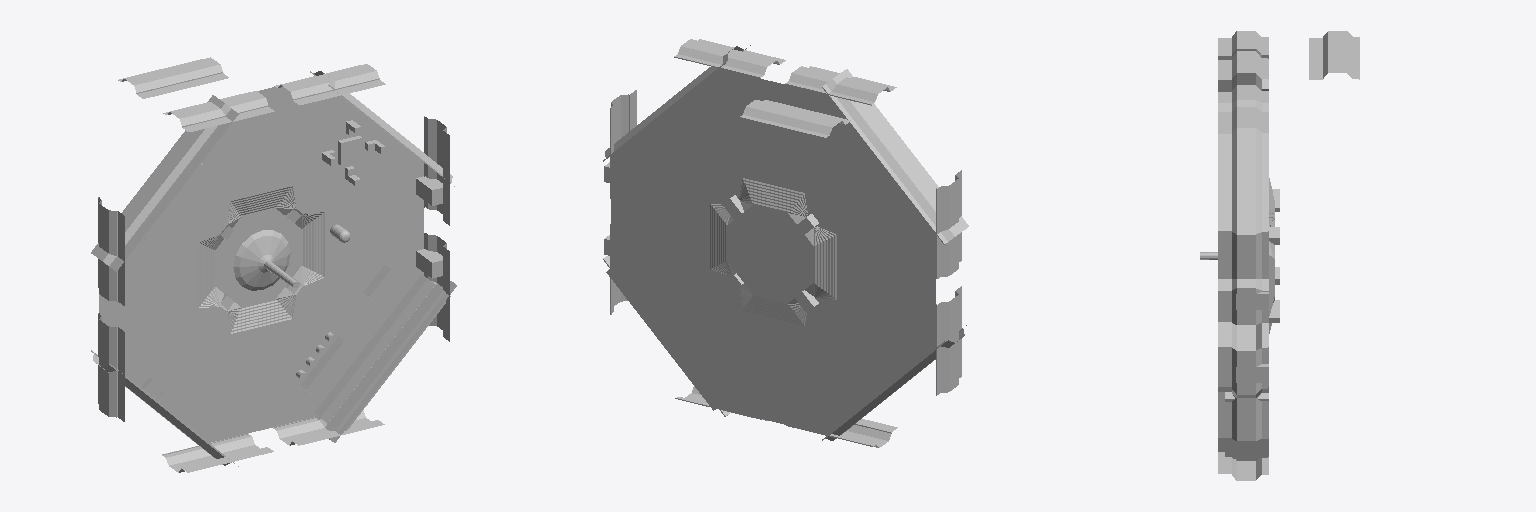
The model's file is greybox_lobby.obj.
3 views of the same model, side by side, from view 1: azimuth 30°, elevation 25°; view 2: azimuth 150°, elevation 25°; view 3: azimuth 270°, elevation 25° (orthographic).
Parts seen in each view (by area): view 1: plane_Plane, wall, wall.001, wall.002, cupboard_Cube.007, hub_screen_Cylinder.001, cupboard.001_Cube.008, wall.003, vending_machine_Cube.015, bar_Cube.002, chairs_Cube.001, table_Cube.003 (+1 smaller); view 2: plane_Plane, wall, wall.001, wall.002, wall.003, plant_Plane.001, cupboard_Cube.007, hub_screen_Cylinder.001, bar_Cube.002; view 3: wall, wall.002, wall.001, wall.003, vending_machine_Cube.015, plane_Plane, plant_Plane.001.
Boxes of the visible parts, <box> form: plane_Plane: <box>99,87,423,442</box>; wall: <box>91,71,456,466</box>; wall.001: <box>98,64,449,472</box>; wall.002: <box>98,91,449,445</box>; cupboard_Cube.007: <box>314,275,434,423</box>; hub_screen_Cylinder.001: <box>233,230,298,290</box>; cupboard.001_Cube.008: <box>330,286,450,430</box>; wall.003: <box>118,57,228,98</box>; vending_machine_Cube.015: <box>416,176,442,278</box>; bar_Cube.002: <box>300,336,355,398</box>; chairs_Cube.001: <box>322,120,384,185</box>; table_Cube.003: <box>338,136,362,165</box>; plane_Plane: <box>611,69,935,434</box>; wall: <box>603,45,968,440</box>; wall.001: <box>610,39,961,447</box>; wall.002: <box>610,66,961,420</box>; wall.003: <box>740,100,850,138</box>; plant_Plane.001: <box>722,195,818,312</box>; cupboard_Cube.007: <box>606,269,716,410</box>; hub_screen_Cylinder.001: <box>751,229,791,274</box>; bar_Cube.002: <box>686,328,734,385</box>; wall: <box>1218,49,1268,460</box>; wall.002: <box>1218,31,1268,480</box>; wall.001: <box>1218,85,1268,324</box>; wall.003: <box>1309,31,1359,79</box>; vending_machine_Cube.015: <box>1236,292,1268,382</box>; plane_Plane: <box>1269,178,1274,333</box>; plant_Plane.001: <box>1269,189,1279,322</box>.
Size of the model in its own units: 32.34 by 32 by 12.77.